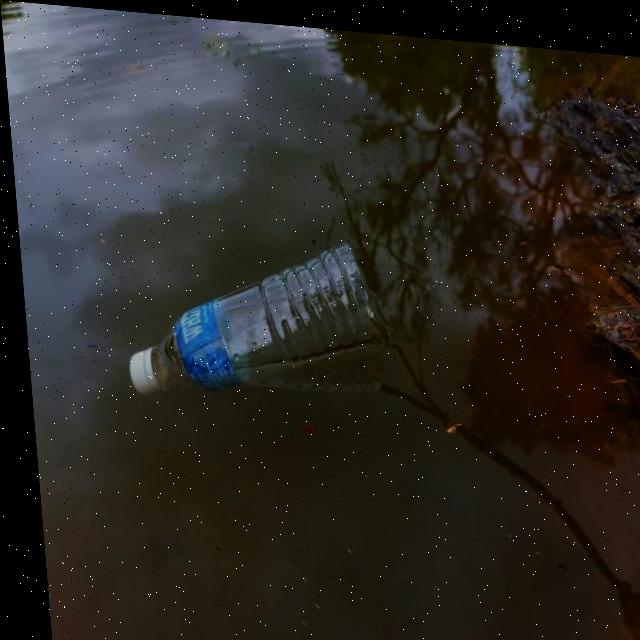waterbottle: (102, 218, 402, 419)
